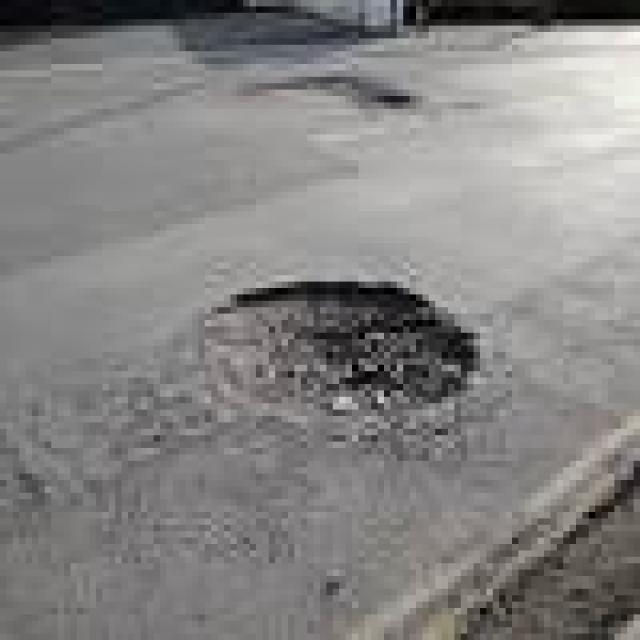Pothole: (198, 282, 480, 461)
